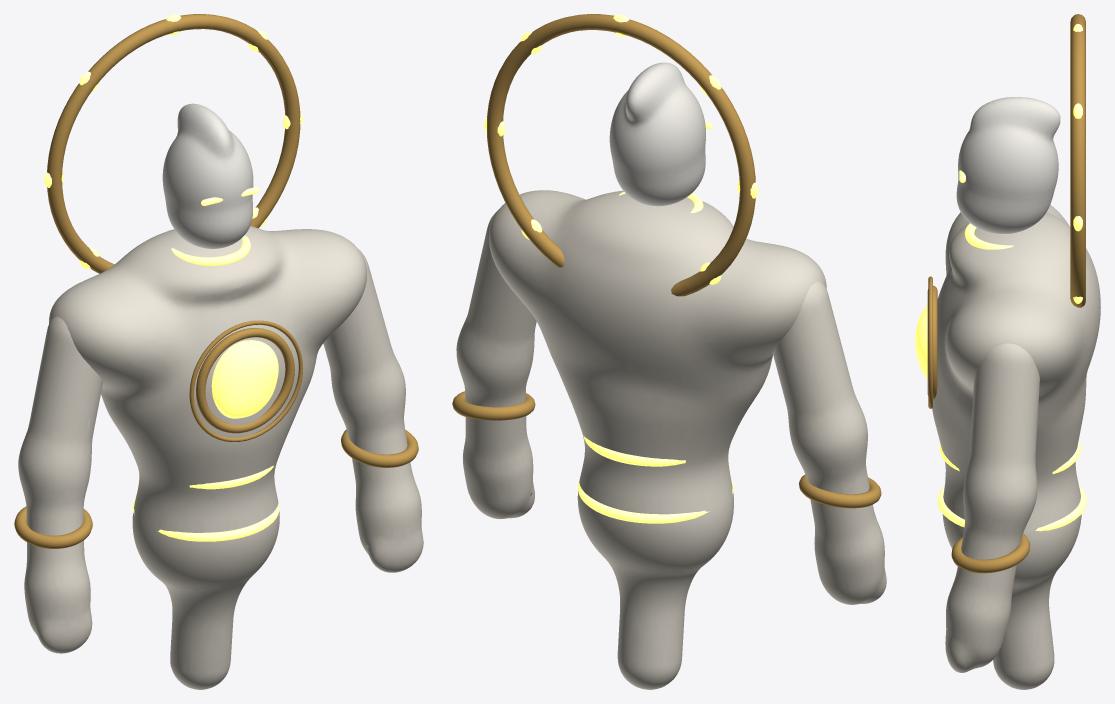
The model's file is ward_warden.glb.
3 renders of one model, left to right at view 1: azimuth 30°, elevation 25°; view 2: azimuth 150°, elevation 25°; view 3: azimuth 270°, elevation 25°, orthographic. The views are drawn at different scales.
Visible parts, largest first — view 1: Torso, Arm_R, Arm_L, Head, Halo, Core, CoreRing, CoreRing2, Bracer_R, Bracer_L, Band_Hips, Band_Neck; view 2: Torso, Arm_R, Arm_L, Halo, Head, Bracer_R, Bracer_L, Band_Hips, Band_Waist; view 3: Torso, Arm_L, Head, Halo, Bracer_L, Band_Hips, CoreRing, Core, CoreRing2, Band_Neck, Band_Waist.
Part boxes in pixels (box(x1,y1,x2,y2)): Torso: box(49, 226, 366, 689); Arm_R: box(18, 316, 102, 653); Arm_L: box(323, 250, 423, 572); Head: box(162, 103, 253, 248); Halo: box(47, 14, 300, 273); Core: box(211, 340, 278, 418); CoreRing: box(196, 328, 294, 433); CoreRing2: box(189, 320, 303, 441); Bracer_R: box(14, 506, 92, 548); Bracer_L: box(341, 429, 418, 467); Band_Hips: box(132, 498, 279, 541); Band_Neck: box(171, 235, 250, 265); Torso: box(489, 190, 826, 689); Arm_R: box(772, 282, 886, 604); Arm_L: box(456, 210, 536, 519); Halo: box(487, 14, 755, 296); Head: box(609, 62, 705, 206); Bracer_R: box(799, 474, 881, 508); Bracer_L: box(452, 391, 535, 420); Band_Hips: box(577, 478, 733, 523); Band_Waist: box(583, 436, 685, 466); Torso: box(932, 205, 1100, 689); Arm_L: box(945, 343, 1039, 672); Head: box(956, 97, 1060, 233); Halo: box(1070, 14, 1085, 307); Bracer_L: box(951, 533, 1030, 573); Band_Hips: box(937, 485, 1086, 531); CoreRing: box(927, 285, 937, 399); Core: box(915, 306, 927, 379); CoreRing2: box(928, 276, 932, 408); Band_Neck: box(964, 223, 1013, 249); Band_Waist: box(939, 440, 1080, 474).
Bounding box in the file's own units: 2.38 × 3.76 × 0.9567.
